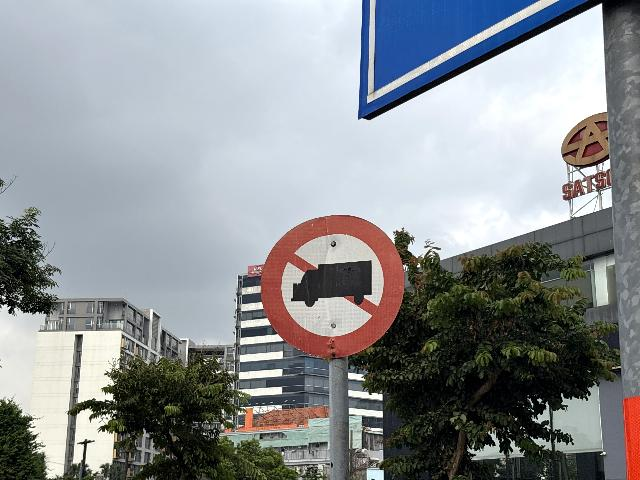cam-xe-tai: (262, 213, 406, 360)
